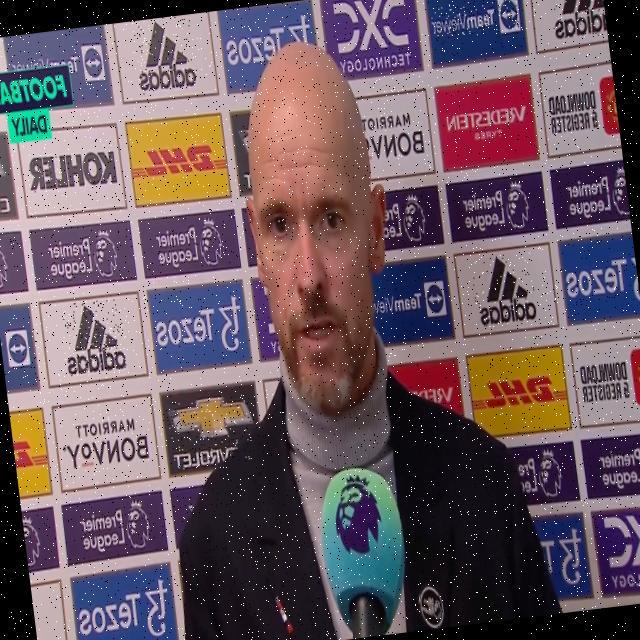Adidas: (59, 298, 128, 378), (131, 14, 199, 95), (470, 250, 538, 329), (545, 0, 607, 40)
Chevrolet: (165, 393, 256, 470)
Kohler: (25, 143, 118, 196)
TeamViewer: (428, 0, 522, 40)
